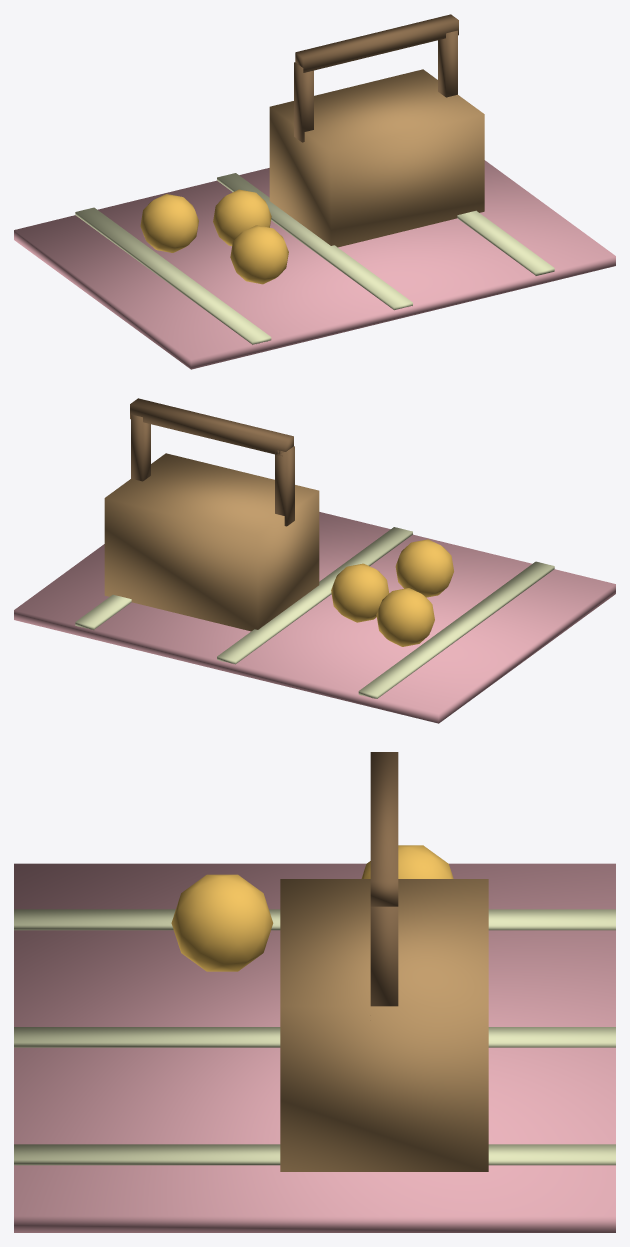
The model's file is prop-picnic.glb.
3 renders of one model, top to bottom at view 1: azimuth 30°, elevation 25°; view 2: azimuth 150°, elevation 25°; view 3: azimuth 270°, elevation 25°, orthographic. The views are drawn at different scales.
Visible parts, largest first — view 1: Woven picnic blanket, Garden basket, prop-picnic_pale, prop-picnic_Quest golden, prop-picnic_bark; view 2: Woven picnic blanket, Garden basket, prop-picnic_pale, prop-picnic_Quest golden, prop-picnic_bark; view 3: Woven picnic blanket, Garden basket, prop-picnic_pale, prop-picnic_Quest golden, prop-picnic_bark.
Part boxes in pixels (bbox=[...]): Woven picnic blanket: bbox=[14, 160, 615, 369]; Garden basket: bbox=[269, 69, 484, 247]; prop-picnic_pale: bbox=[75, 173, 554, 344]; prop-picnic_Quest golden: bbox=[140, 189, 288, 284]; prop-picnic_bark: bbox=[294, 14, 458, 142]; Woven picnic blanket: bbox=[14, 512, 615, 723]; Garden basket: bbox=[104, 453, 319, 631]; prop-picnic_pale: bbox=[75, 527, 554, 698]; prop-picnic_Quest golden: bbox=[331, 539, 453, 646]; prop-picnic_bark: bbox=[130, 398, 294, 526]; Woven picnic blanket: bbox=[14, 863, 615, 1232]; Garden basket: bbox=[280, 879, 488, 1171]; prop-picnic_pale: bbox=[14, 909, 615, 1165]; prop-picnic_Quest golden: bbox=[171, 845, 453, 971]; prop-picnic_bark: bbox=[370, 752, 398, 1006].
Size of the model in its own units: 1.8 by 0.735 by 1.3.
